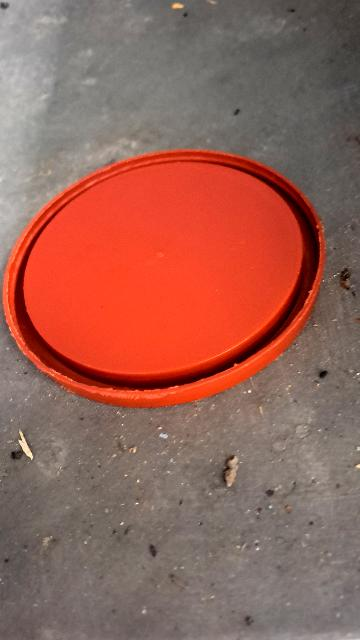hardplastic: (1, 141, 340, 424)
